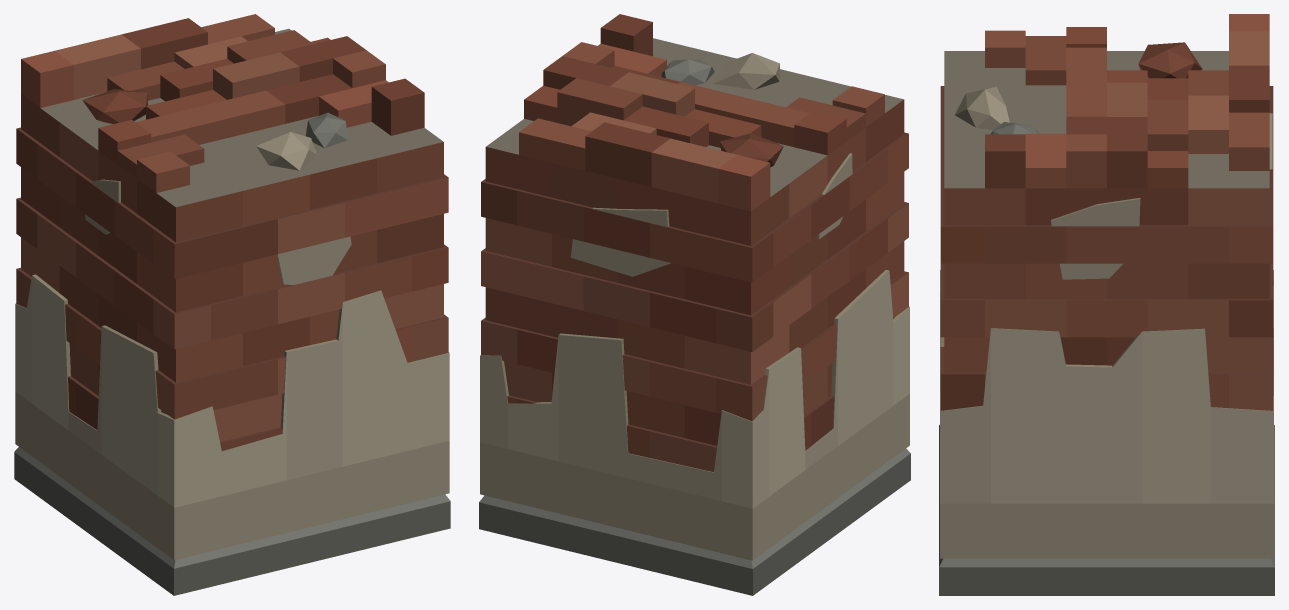
File: parede_tijolo_3.glb
The picture shows the model from 3 angles, left to right: view 1: azimuth 30°, elevation 25°; view 2: azimuth 150°, elevation 25°; view 3: azimuth 270°, elevation 25°; orthographic projection. The views are drawn at different scales.
Visible parts, largest first — view 1: parede_tijolo_3.001; view 2: parede_tijolo_3.001; view 3: parede_tijolo_3.001.
Part boxes in pixels (<box>): parede_tijolo_3.001: <box>14,14,450,595</box>; parede_tijolo_3.001: <box>479,14,910,595</box>; parede_tijolo_3.001: <box>939,14,1274,595</box>.
Size of the model in its own units: 1.65 by 2.4 by 1.65.
